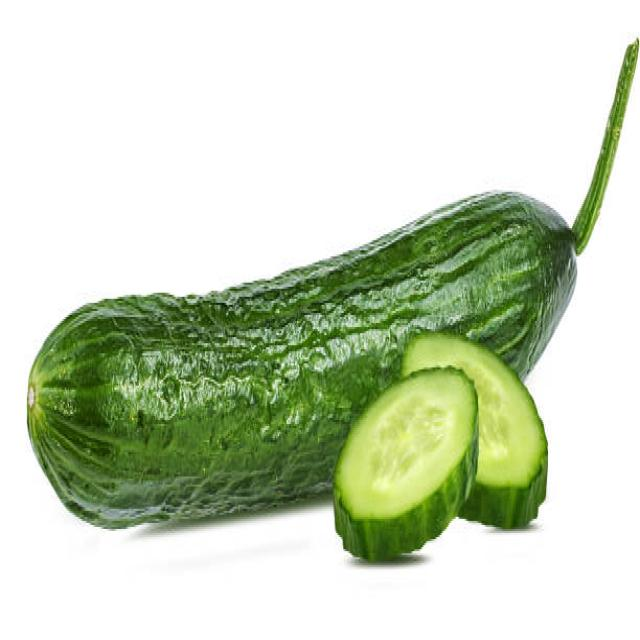cucumber: (27, 192, 578, 530)
